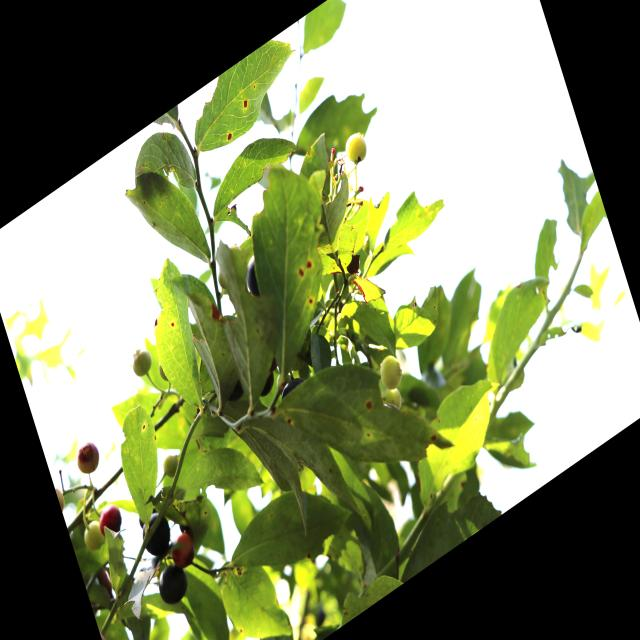blueberry: (138, 507, 176, 566), (153, 555, 192, 610), (241, 252, 267, 302), (278, 372, 307, 402), (256, 370, 278, 400), (226, 378, 247, 404)
blueberry-halfripe: (74, 432, 108, 482), (167, 525, 199, 571), (96, 501, 125, 540)
blueberry-unripe: (340, 125, 371, 172), (376, 347, 406, 393), (80, 514, 107, 555), (129, 344, 155, 379), (158, 448, 181, 480)
